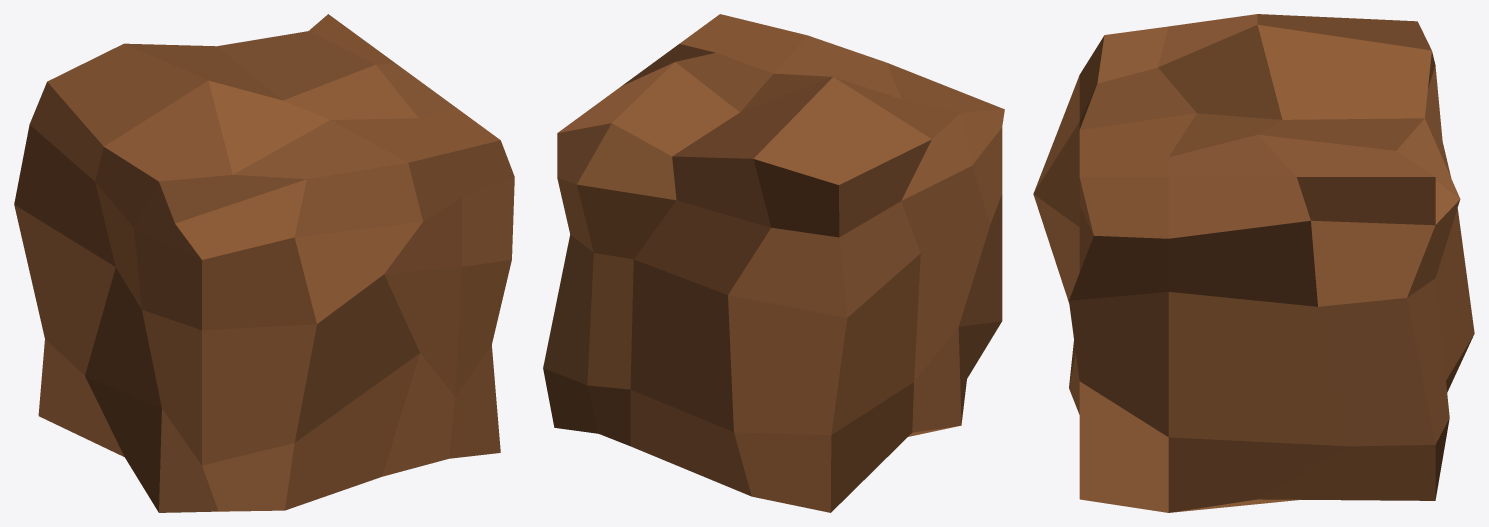
File: rock_wall.gltf
3 views of the same model, side by side, from view 1: azimuth 30°, elevation 25°; view 2: azimuth 150°, elevation 25°; view 3: azimuth 270°, elevation 25° (orthographic). The views are drawn at different scales.
Parts seen in each view (by area): view 1: rock_wall-col; view 2: rock_wall-col; view 3: rock_wall-col.
Part boxes in pixels (x1,y1,x2,y2): rock_wall-col: (14,14,514,512); rock_wall-col: (543,14,1004,512); rock_wall-col: (1033,14,1474,512).
Bounding box in the file's own units: 117 × 124 × 124.
1 material, 1 textured.
